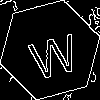W: (25, 25, 82, 81)
